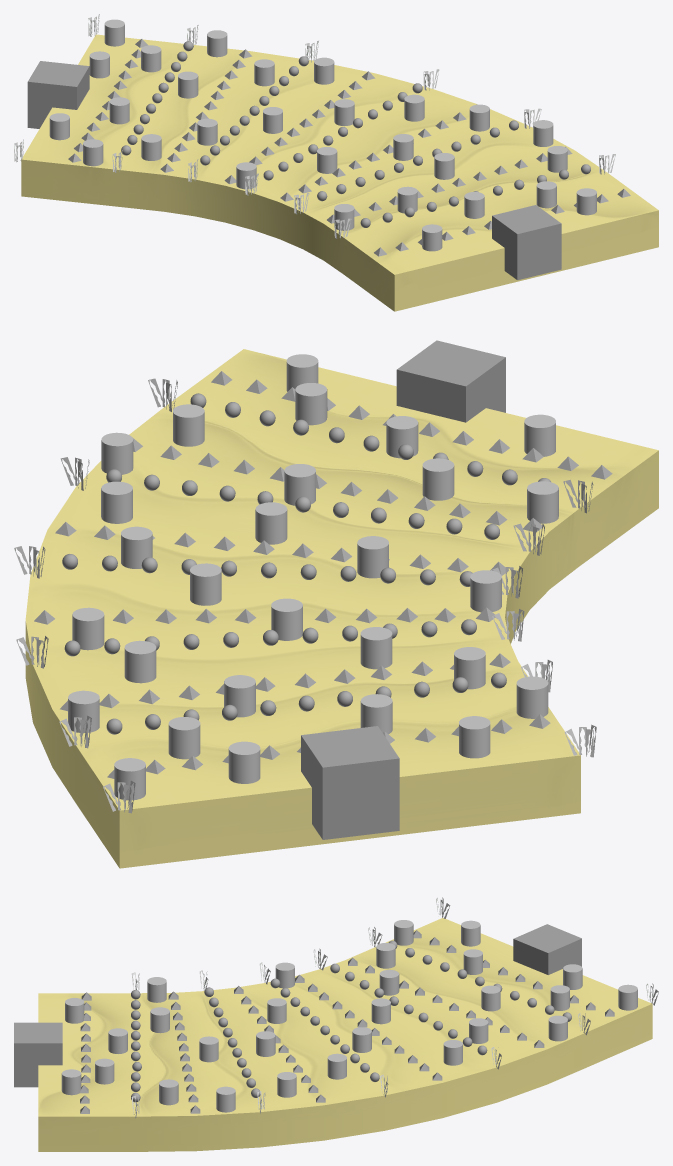
File: assets009_Streckenteil_links001.fbx
3 views of the same model, one above another, from view 1: azimuth 30°, elevation 25°; view 2: azimuth 150°, elevation 25°; view 3: azimuth 270°, elevation 25° (orthographic). The views are drawn at different scales.
Parts seen in each view (by area): view 1: streckenteil_linkskurve_geo1, a (×12), b (×10), startpoint, endpoint, c (×5), d; view 2: streckenteil_linkskurve_geo1, a (×12), b (×10), endpoint, startpoint, c (×5), d; view 3: streckenteil_linkskurve_geo1, a (×12), b (×10), startpoint, endpoint, c (×5), d.
Part boxes in pixels (box(x1,y1,x2,y2)): streckenteil_linkskurve_geo1: box(21, 34, 658, 311); a (×12): box(109, 97, 596, 251); b (×10): box(49, 30, 489, 189); startpoint: box(492, 205, 561, 280); endpoint: box(27, 61, 89, 128); c (×5): box(83, 19, 334, 166); d: box(141, 45, 161, 72); streckenteil_linkskurve_geo1: box(25, 349, 658, 868); a (×12): box(101, 354, 558, 734); b (×10): box(68, 481, 501, 783); endpoint: box(301, 726, 399, 839); startpoint: box(396, 340, 505, 422); c (×5): box(72, 607, 548, 800); d: box(168, 717, 200, 759); streckenteil_linkskurve_geo1: box(38, 918, 652, 1151); a (×12): box(61, 943, 482, 1112); b (×10): box(256, 920, 582, 1097); startpoint: box(14, 1022, 62, 1087); endpoint: box(513, 924, 581, 974); c (×5): box(379, 920, 637, 1065); d: box(550, 985, 569, 1010).
Size of the model in its own units: 50.24 by 6.5 by 66.24.
